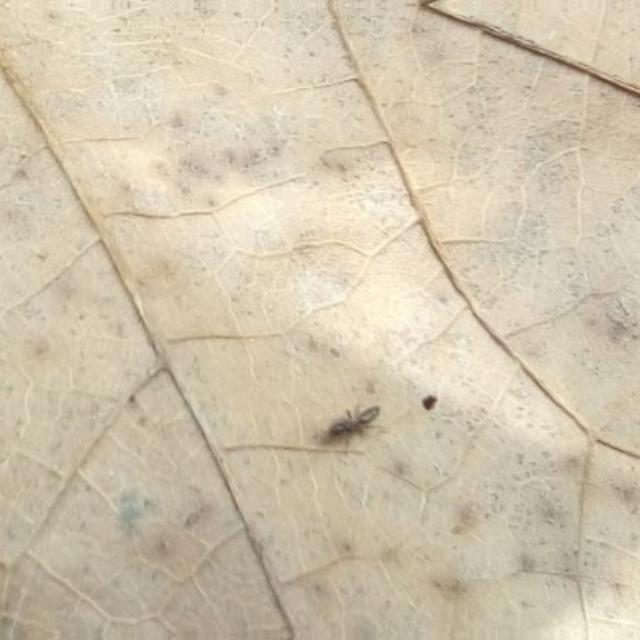Tapinoma: (318, 397, 388, 448)
